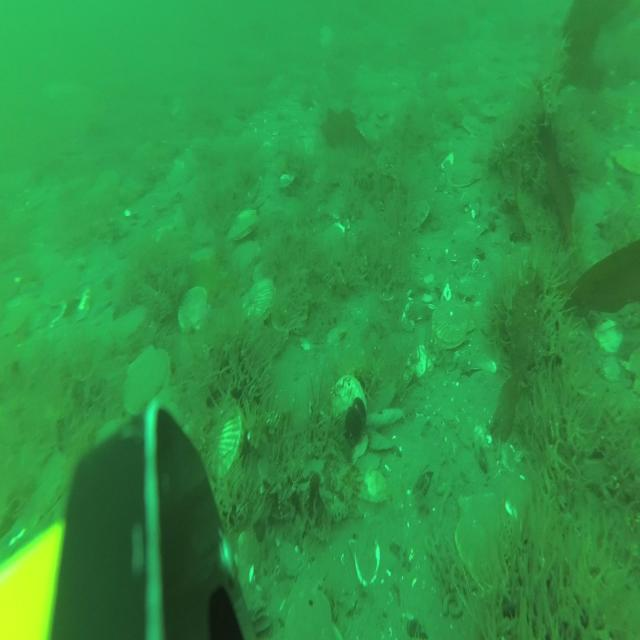scallop: (455, 495, 513, 584), (206, 395, 244, 481), (123, 348, 174, 412), (434, 296, 474, 353), (330, 371, 367, 422), (44, 261, 80, 309), (244, 278, 278, 327), (112, 304, 145, 348), (230, 240, 261, 286), (358, 463, 386, 512), (178, 285, 209, 329), (448, 157, 484, 192), (228, 206, 256, 244), (596, 319, 623, 358)
